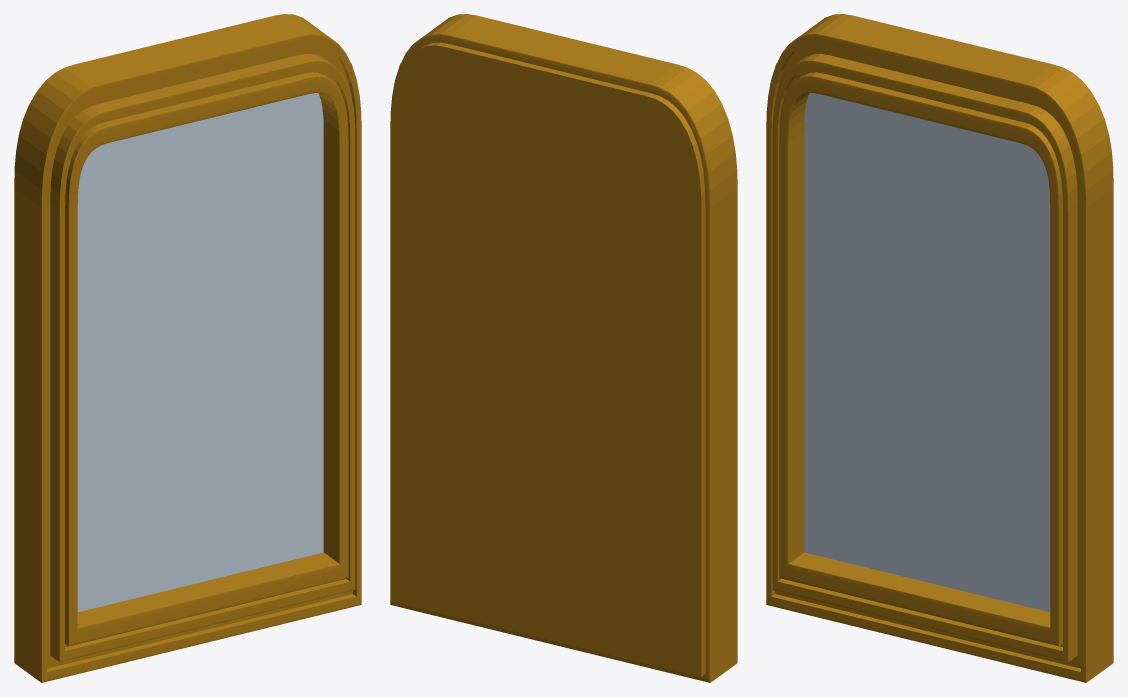
Rendered from M_Miroir.fbx.
3 renders of one model, left to right at view 1: azimuth 30°, elevation 25°; view 2: azimuth 150°, elevation 25°; view 3: azimuth 330°, elevation 25°, orthographic.
Parts seen in each view (by area): view 1: Cube; view 2: Cube; view 3: Cube.
Part boxes in pixels (box(x1,y1,x2,y2)): Cube: box(14, 14, 361, 682); Cube: box(390, 14, 737, 682); Cube: box(766, 14, 1113, 682).
Bounding box in the file's own units: 412 × 718 × 86.75.
